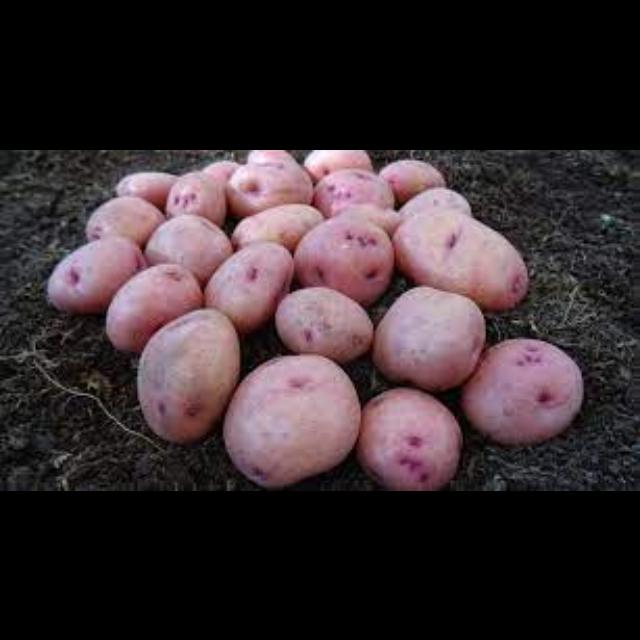Defected potato: (223, 352, 365, 488), (136, 307, 242, 449), (460, 336, 588, 450), (391, 210, 531, 310), (372, 281, 488, 393), (353, 385, 467, 491), (294, 212, 398, 308), (106, 260, 204, 356), (202, 240, 298, 338), (276, 284, 376, 366), (46, 235, 146, 313), (146, 212, 234, 286), (84, 194, 168, 253), (166, 170, 228, 227)
